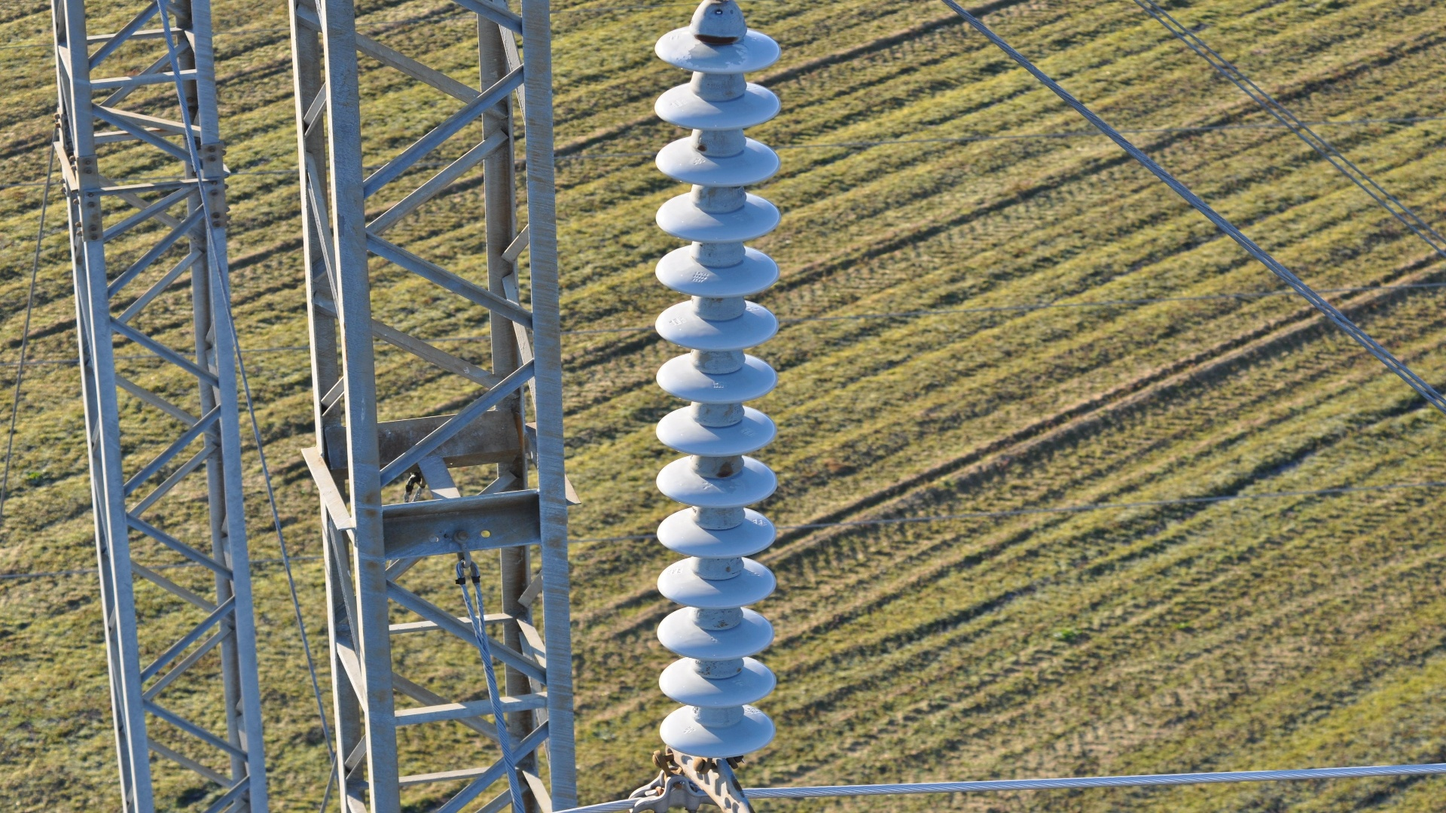insulator: (645, 26, 789, 763)
